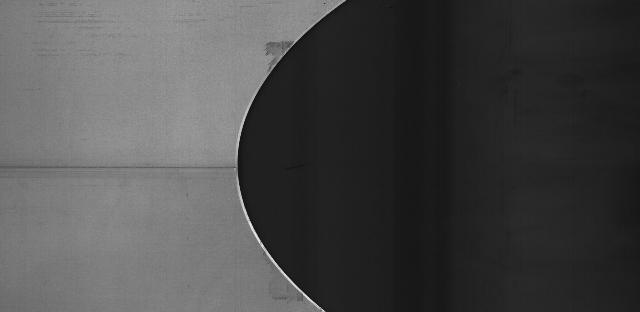welding_line: (1, 155, 251, 185)
